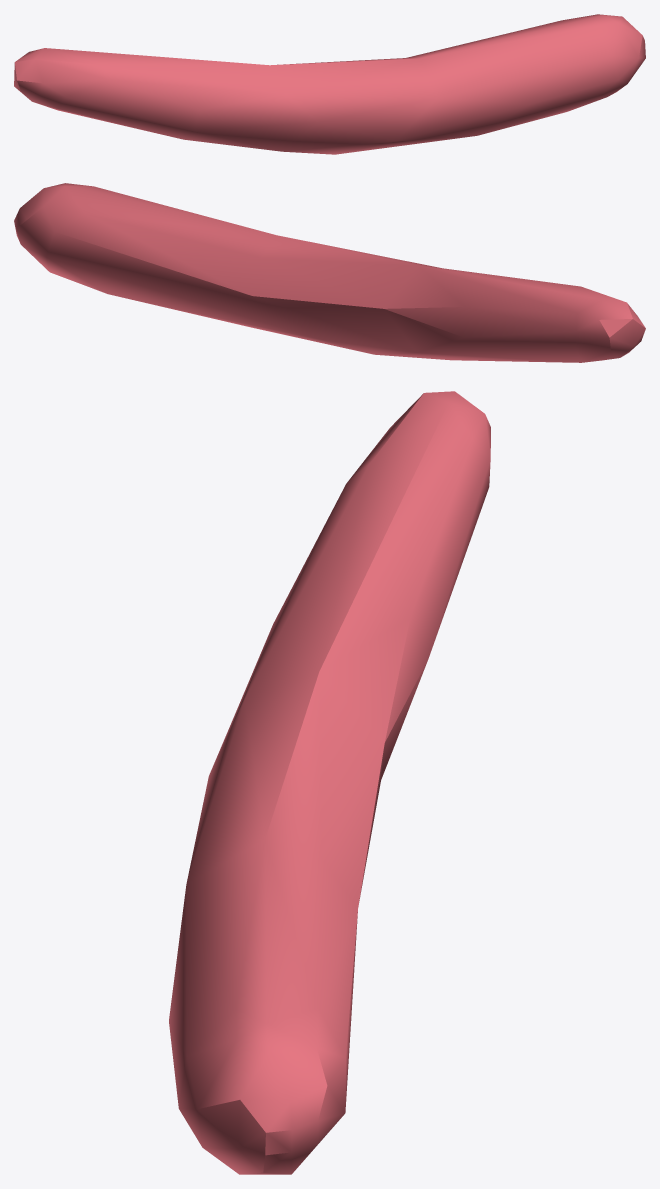
Rendered from fma8661_fj6122.glb.
3 renders of one model, top to bottom at view 1: azimuth 30°, elevation 25°; view 2: azimuth 150°, elevation 25°; view 3: azimuth 270°, elevation 25°, orthographic. The views are drawn at different scales.
Parts seen in each view (by area): view 1: FMA8661_FJ6122; view 2: FMA8661_FJ6122; view 3: FMA8661_FJ6122.
Part boxes in pixels (left/top/right/bottom): FMA8661_FJ6122: left=14, top=14, right=645, bottom=154; FMA8661_FJ6122: left=14, top=183, right=645, bottom=362; FMA8661_FJ6122: left=169, top=391, right=490, bottom=1174.
Size of the model in its own units: 0.02 by 0.00467 by 0.00476.
